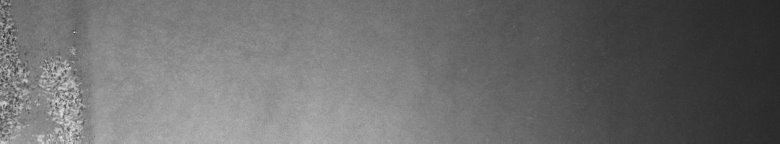hc: (4, 4, 91, 136)
